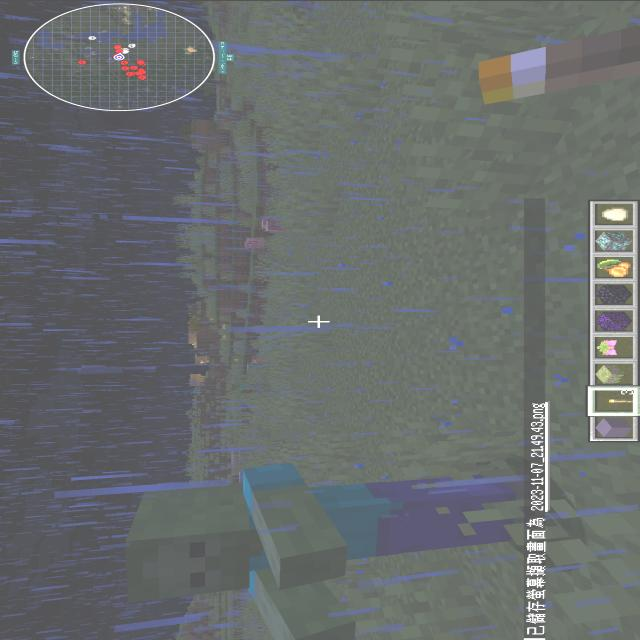Creeper: (242, 360, 280, 372)
Zombie: (114, 458, 561, 640), (228, 379, 270, 393)
pig: (240, 234, 270, 250), (248, 354, 274, 366)
